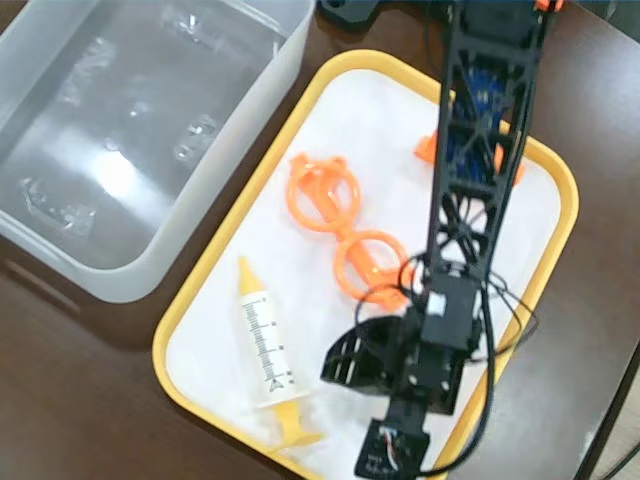syringe: (228, 251, 327, 462)
